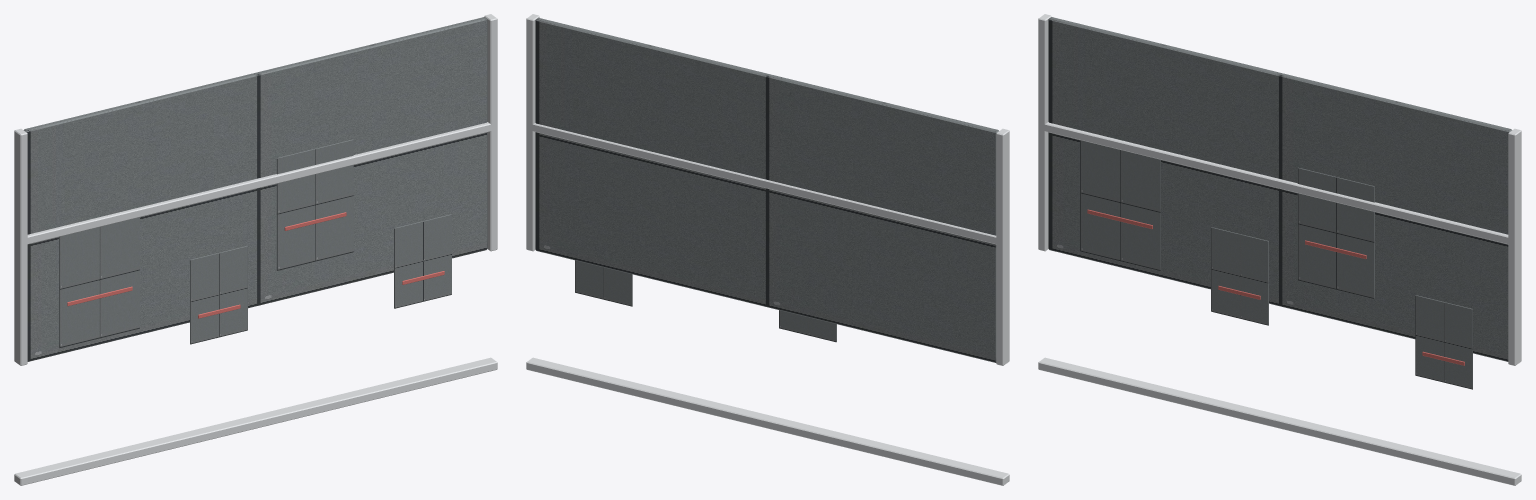
File: japanese-school-and-city-street-bulletin-board-468eac47__30090.glb
3 renders of one model, left to right at view 1: azimuth 30°, elevation 25°; view 2: azimuth 150°, elevation 25°; view 3: azimuth 330°, elevation 25°, orthographic.
Visible parts, largest first — view 1: bulletin-board; view 2: bulletin-board; view 3: bulletin-board.
Boxes of the visible parts, x1,y1,x2,y2 form: bulletin-board: [14, 14, 497, 485]; bulletin-board: [526, 14, 1009, 485]; bulletin-board: [1038, 14, 1521, 485].
Bounding box in the file's own units: 2.48 × 1.74 × 0.0599.
Materials: 3 (1 with a texture image).
